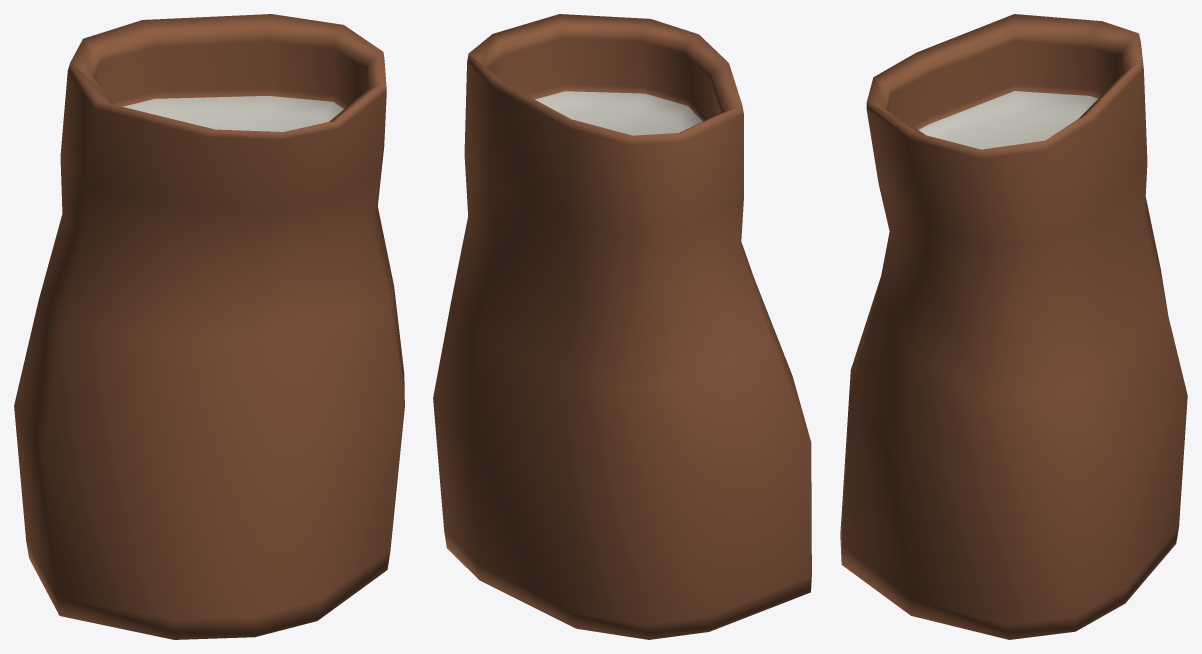
File: sack1fbx.fbx
3 views of the same model, side by side, from view 1: azimuth 30°, elevation 25°; view 2: azimuth 150°, elevation 25°; view 3: azimuth 270°, elevation 25° (orthographic).
Parts seen in each view (by area): view 1: Sack; view 2: Sack; view 3: Sack.
Boxes of the visible parts, x1,y1,x2,y2 form: Sack: (14,14,404,639); Sack: (433,14,811,639); Sack: (840,14,1187,639).
Size of the model in its own units: 47.13 by 61.85 by 39.39.
